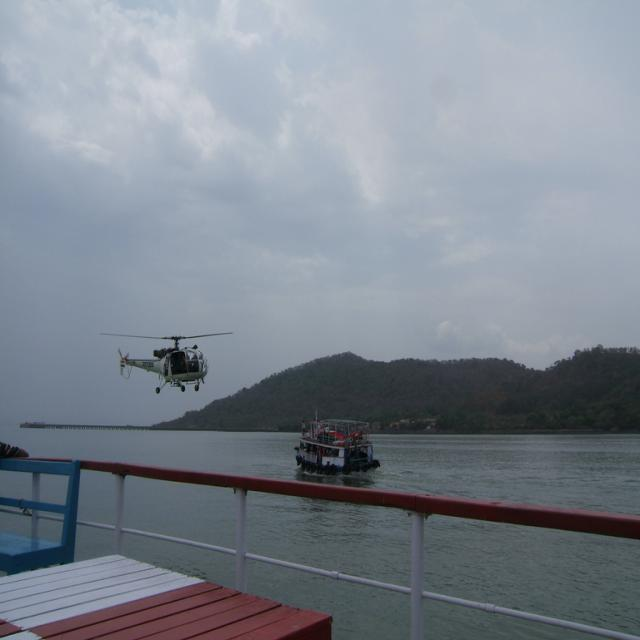Boat: (284, 417, 384, 477), (0, 434, 30, 460)
